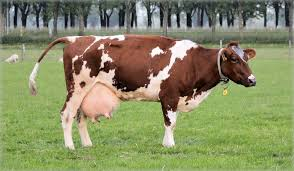waka: (26, 29, 259, 151)
